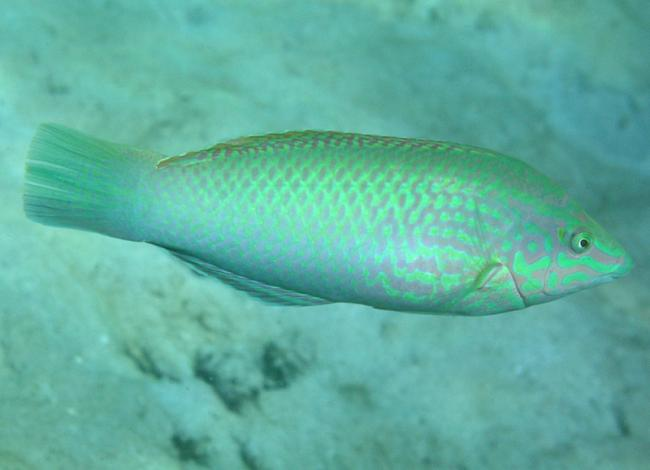fish: (22, 122, 634, 317)
